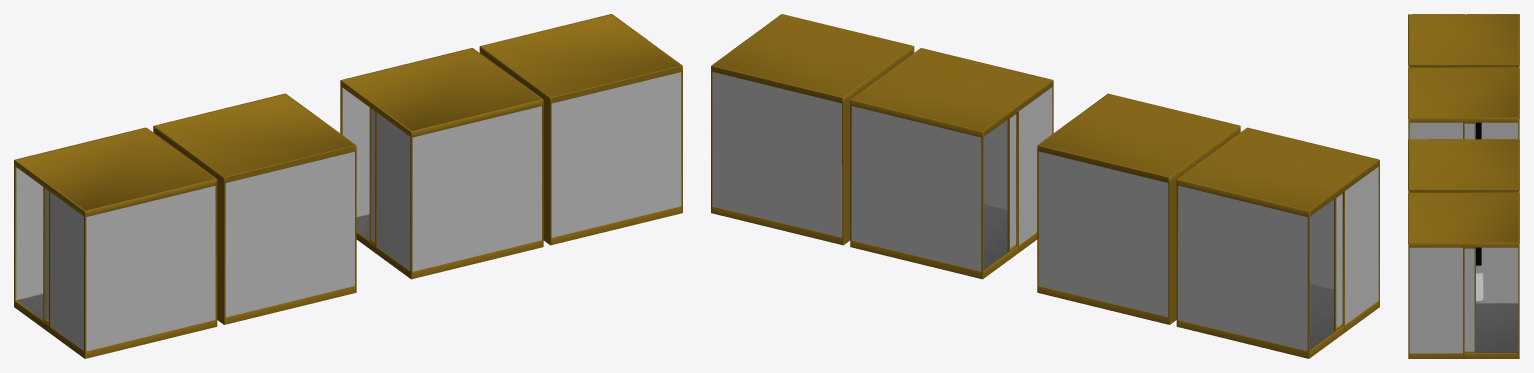
Rendered from TELLUS_arena_FURNITURE_001.FBX.
3 views of the same model, side by side, from view 1: azimuth 30°, elevation 25°; view 2: azimuth 150°, elevation 25°; view 3: azimuth 270°, elevation 25° (orthographic). The views are drawn at different scales.
Parts seen in each view (by area): view 1: TELLUS_arena_FURNITURE_001; view 2: TELLUS_arena_FURNITURE_001; view 3: TELLUS_arena_FURNITURE_001.
Part boxes in pixels (left/top/right/bottom): TELLUS_arena_FURNITURE_001: left=14, top=14, right=682, bottom=358; TELLUS_arena_FURNITURE_001: left=711, top=14, right=1379, bottom=358; TELLUS_arena_FURNITURE_001: left=1408, top=14, right=1519, bottom=358.
Bounding box in the file's own units: 1148 × 236 × 270.
